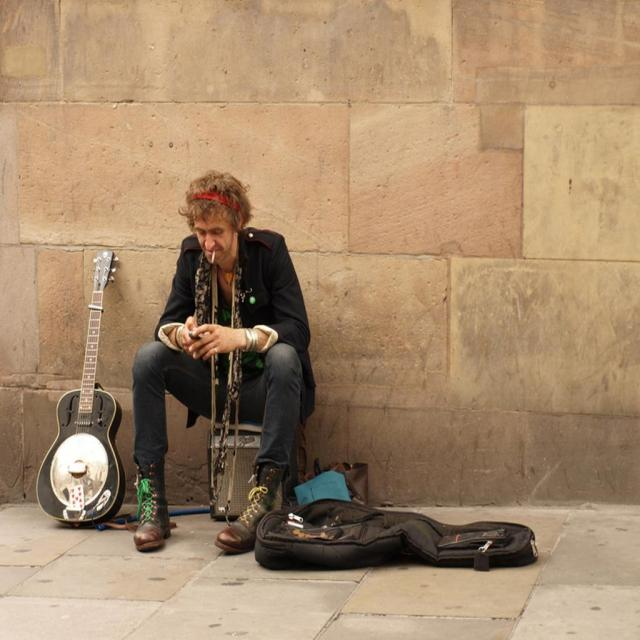nomask: (191, 210, 234, 268)
